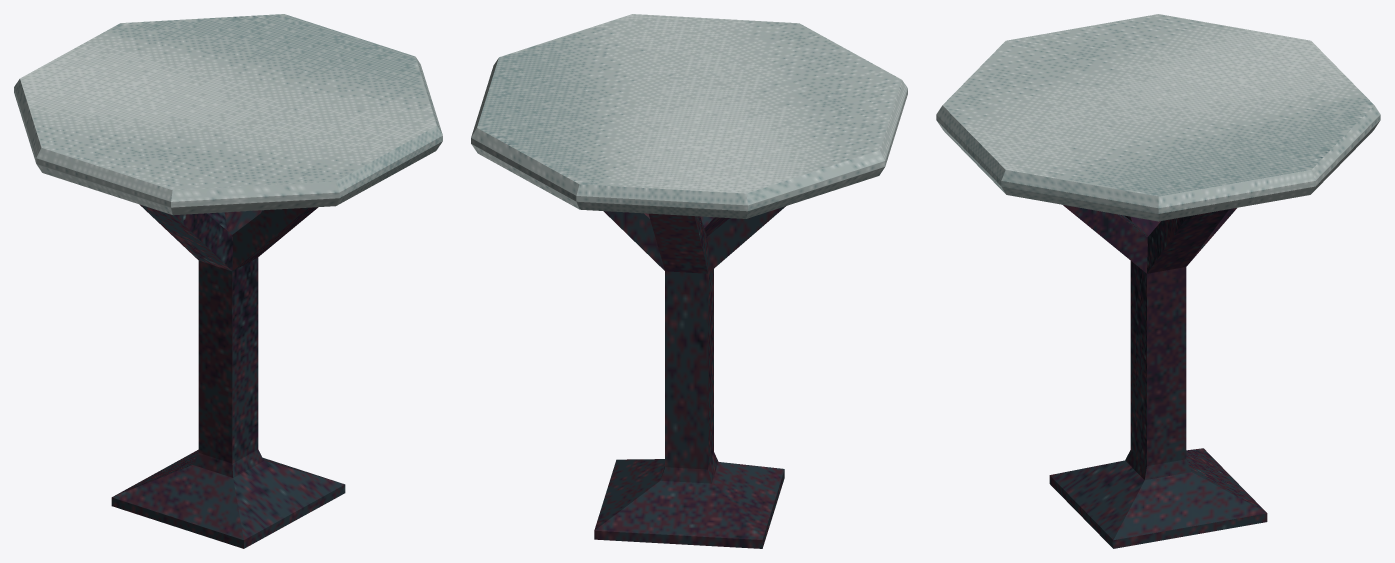
Rendered from cell_stool.glb.
3 renders of one model, left to right at view 1: azimuth 30°, elevation 25°; view 2: azimuth 150°, elevation 25°; view 3: azimuth 270°, elevation 25°, orthographic.
Parts seen in each view (by area): view 1: Circle; view 2: Circle; view 3: Circle.
Part boxes in pixels (bbox=[...]): Circle: bbox=[14, 14, 442, 548]; Circle: bbox=[471, 14, 907, 548]; Circle: bbox=[936, 14, 1380, 548].
Bounding box in the file's own units: 1.11 × 1.1 × 1.11.
Materials: 2 (2 with a texture image).
